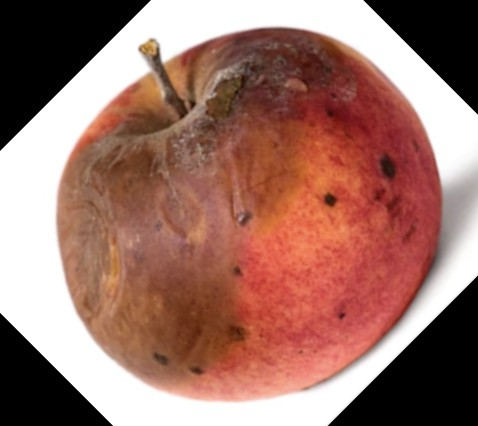rotten_apple: (58, 27, 445, 403)
